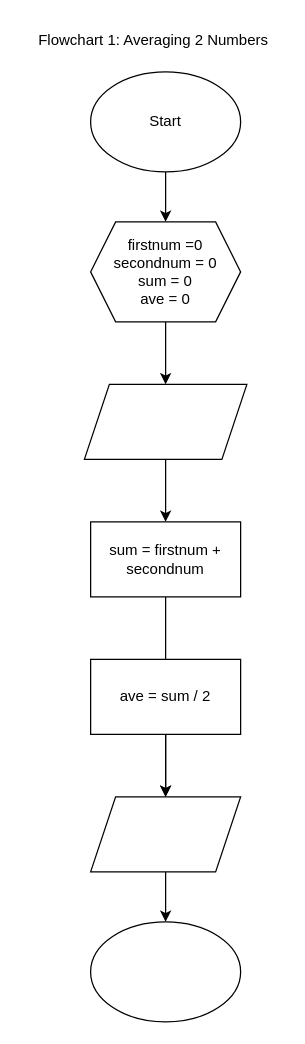
The diagram is 305 pixels wide and 1044 high, and some of its shapes have lost their labels. Here are the shapes that lost their labels. From the top down, the centre of each, then its label:
[165,421]: INPUT get firstnum() get secondnum()
[165,971]: End
